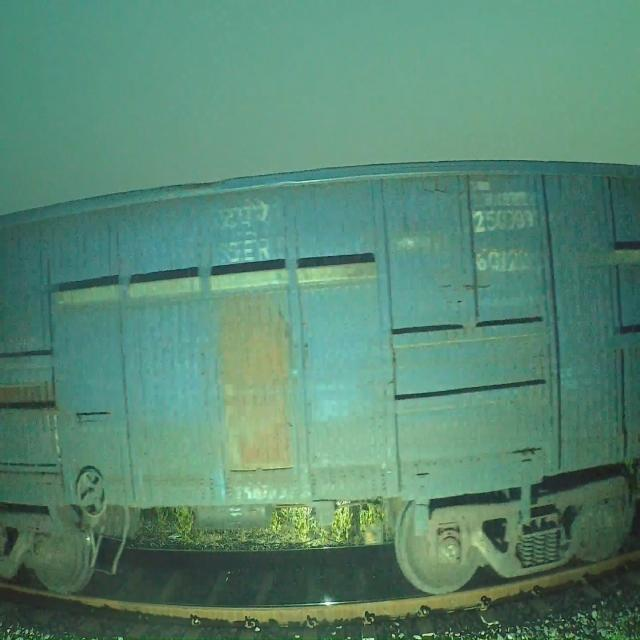WAgon-uic: (0, 160, 640, 600)
uic: (470, 206, 543, 279)
